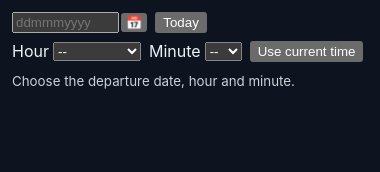
Test case: the departure picker builds the time from a date, hour, and minute
Check: the text "Choose the departure date, hour and minute." is shown, box 12,73 -> 295,89
In the field named "Departure Date/Time date": (65, 22) 12,12 -> 119,33, type "18OCT2026"
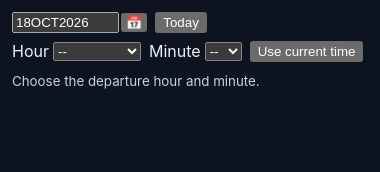
Select "16 (4 PM)" in the dropdown named "Departure Date/Time hour": (97, 52) 53,42 -> 141,61
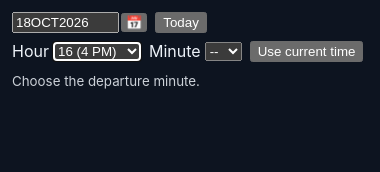
Check: the text "Choose the departure minute." is shown, box 12,73 -> 200,89
Select "25" in the dropdown named "Departure Date/Time minute": (223, 52) 205,42 -> 242,61
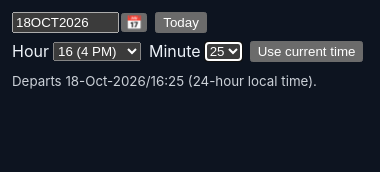
Check: the text "Departs 18-Oct-2026/16:25 (24-hour local time)." is shown, box 12,73 -> 317,89
